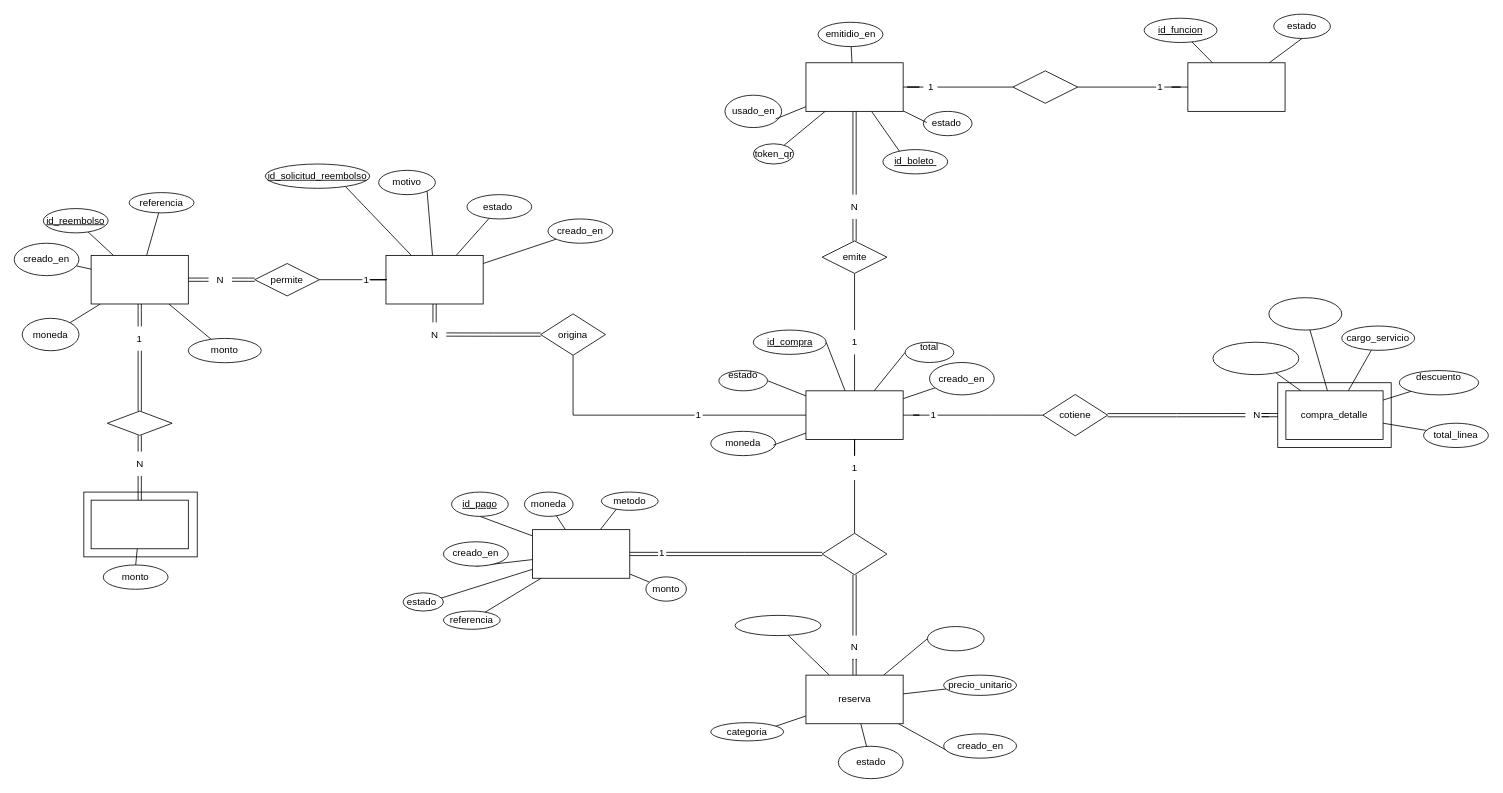
Some shapes in this 1503 by 793 pixel diagram are drawn without their labels. The centre of each missing label's shape, as x and y in pixels:
"actualiza" belongs at (1045,86).
"boleto" belongs at (854,86).
"compra" belongs at (854,414).
"crea" belongs at (139,422).
"genera" belongs at (854,553).
"id_compra_detalle" belongs at (1255,358).
"id_reserva" belongs at (777,625).
"inventario_funcion" belongs at (1236,86).
"pago" belongs at (581,553).
"precio_base" belongs at (1305,313).
"reembolso" belongs at (139,279).
"reembolso_detalle" belongs at (139,524).
"solicitud_reembolso" belongs at (434,279).
"vence_en" belongs at (955,638).
